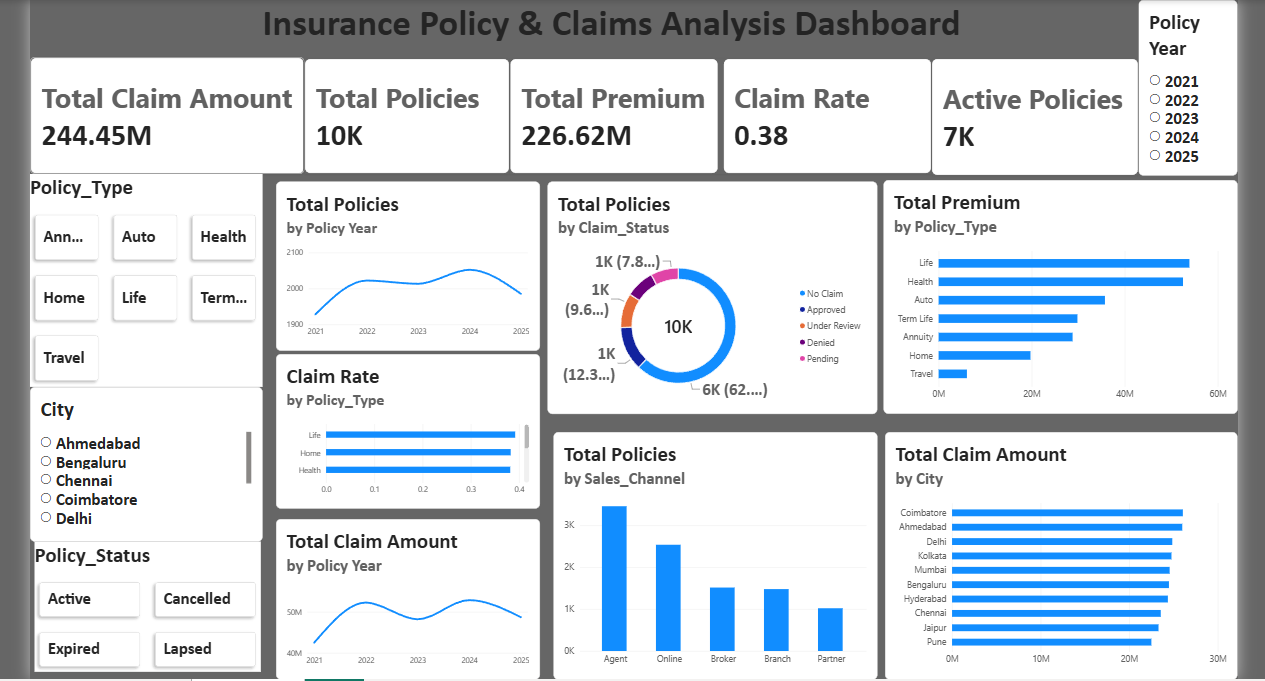

This screenshot's page, from the dashboard's own definition file:
{"tool":"powerbi","page":{"name":"Page 1","canvas":[1920,1080],"ordinal":0},"visuals":[{"type":"cardVisual","fields":{"Data":["insurance.Total Claim Amount"]},"box":[0,90.7,436.6,186.1],"z":0},{"type":"cardVisual","fields":{"Data":["insurance.Total Policies"]},"box":[436.6,93.1,326.9,183.7],"z":1000},{"type":"cardVisual","fields":{"Data":["insurance.Active Policies"]},"box":[1433.9,93.1,329.3,186.1],"z":2000},{"type":"advancedSlicerVisual","fields":{"Values":["insurance.Policy_Type"]},"box":[0,276.8,369.8,338.8],"z":3000},{"type":"advancedSlicerVisual","fields":{"Values":["insurance.Policy_Status"]},"box":[7.2,861.3,360.3,207.6],"z":4000},{"type":"listSlicer","fields":{"Values":["insurance.Policy Year"]},"box":[1763.2,0,157.5,279.2],"z":5000},{"type":"listSlicer","fields":{"Values":["insurance.City"]},"box":[0,615.6,369.8,245.7],"z":6000},{"type":"clusteredBarChart","fields":{"Category":["insurance.Policy_Type"],"Y":["insurance.Total Premium"]},"box":[1357.6,286.3,563.1,372.2],"z":7000},{"type":"donutChart","fields":{"Category":["insurance.Claim_Status"],"Y":["insurance.Total Policies"]},"box":[823.1,288.7,524.9,369.8],"z":8000},{"type":"clusteredColumnChart","fields":{"Category":["insurance.Sales_Channel"],"Y":["insurance.Total Policies"]},"box":[832.7,687.1,515.4,393.7],"z":9000},{"type":"barChart","fields":{"Category":["insurance.City"],"Y":["insurance.Total Claim Amount"]},"box":[1360,687.1,560.7,393.7],"z":10000},{"type":"textbox","box":[369.8,0,1152.4,93.1],"z":11000},{"type":"cardVisual","fields":{"Data":["insurance.Total Premium","insurance.Claim Rate"]},"box":[763.5,93.1,670.4,183.7],"z":12000},{"type":"lineChart","fields":{"Category":["insurance.Policy Year"],"Y":["insurance.Total Policies"]},"box":[391.3,288.7,419.9,269.6],"z":12001},{"type":"lineChart","fields":{"Category":["insurance.Policy Year"],"Y":["insurance.Total Claim Amount"]},"box":[391.3,825.5,419.9,255.3],"z":12002},{"type":"clusteredBarChart","fields":{"Category":["insurance.Policy_Type"],"Y":["insurance.Claim Rate"]},"box":[391.3,563.1,419.9,245.7],"z":12003}]}

Visuals, with their boxes in screenshot pixels (x1, y1, x2, y2):
cardVisual - insurance.Total Claim Amount: [x1=33, y1=56, x2=305, y2=172]
cardVisual - insurance.Total Policies: [x1=305, y1=58, x2=508, y2=172]
cardVisual - insurance.Active Policies: [x1=926, y1=58, x2=1131, y2=174]
advancedSlicerVisual - insurance.Policy_Type: [x1=33, y1=172, x2=263, y2=383]
advancedSlicerVisual - insurance.Policy_Status: [x1=37, y1=536, x2=262, y2=666]
listSlicer - insurance.Policy Year: [x1=1131, y1=0, x2=1229, y2=174]
listSlicer - insurance.City: [x1=33, y1=383, x2=263, y2=536]
clusteredBarChart - insurance.Policy_Type x insurance.Total Premium: [x1=878, y1=178, x2=1229, y2=410]
donutChart - insurance.Claim_Status x insurance.Total Policies: [x1=545, y1=180, x2=872, y2=410]
clusteredColumnChart - insurance.Sales_Channel x insurance.Total Policies: [x1=551, y1=428, x2=872, y2=673]
barChart - insurance.City x insurance.Total Claim Amount: [x1=880, y1=428, x2=1229, y2=673]
textbox: [x1=263, y1=0, x2=981, y2=58]
cardVisual - insurance.Total Premium x insurance.Claim Rate: [x1=508, y1=58, x2=926, y2=172]
lineChart - insurance.Policy Year x insurance.Total Policies: [x1=277, y1=180, x2=538, y2=348]
lineChart - insurance.Policy Year x insurance.Total Claim Amount: [x1=277, y1=514, x2=538, y2=673]
clusteredBarChart - insurance.Policy_Type x insurance.Claim Rate: [x1=277, y1=351, x2=538, y2=504]
